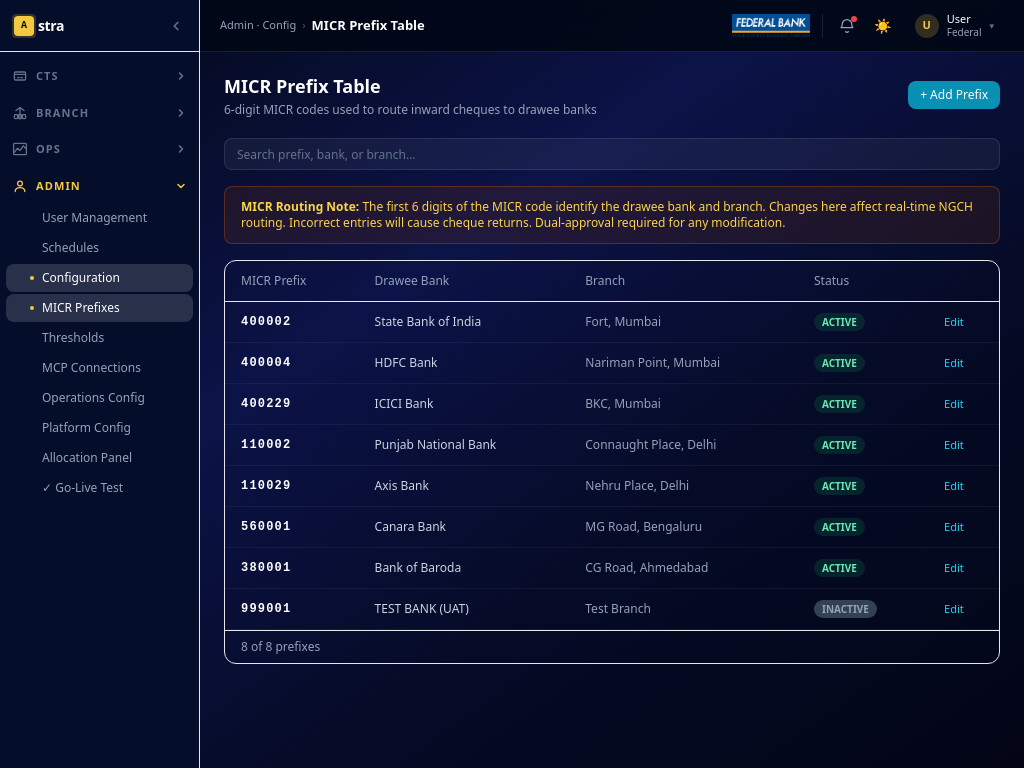
Test: CTSMICRPrefixes › edit modal Cancel closes it
The image size is (1024, 768).
Click the button "Edit" in the row of "400002". click: (954, 322)
box: x1=944 y1=314 x2=964 y2=330
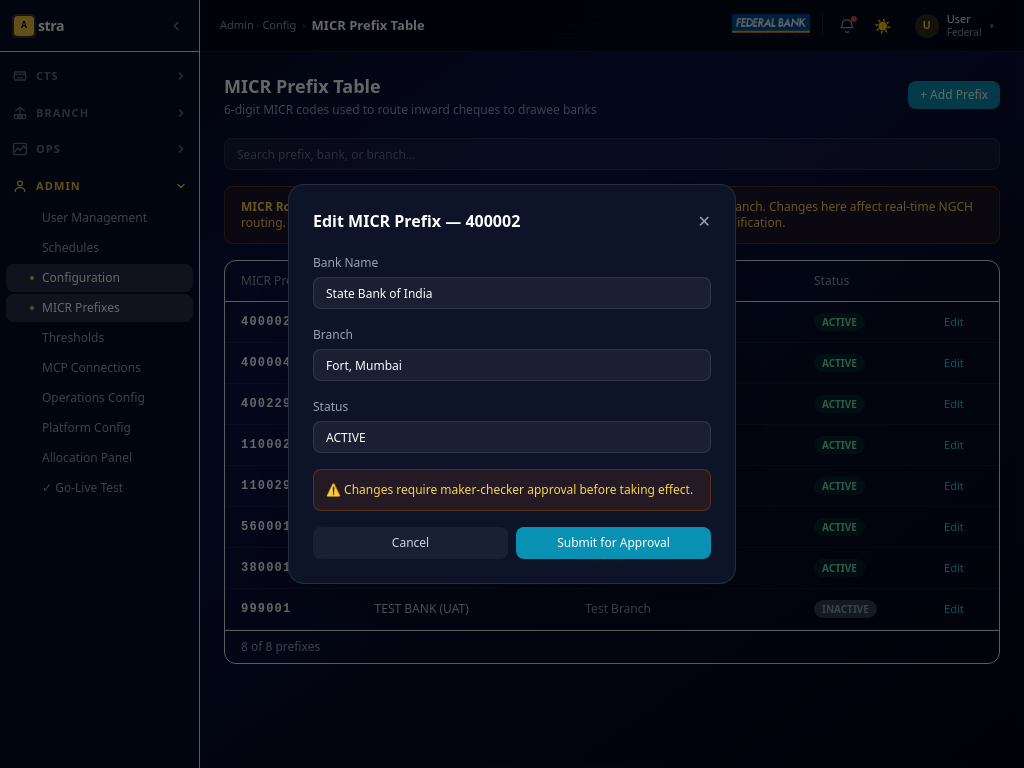
Click the button "Cancel". click: (410, 543)
box: x1=313 y1=527 x2=508 y2=559
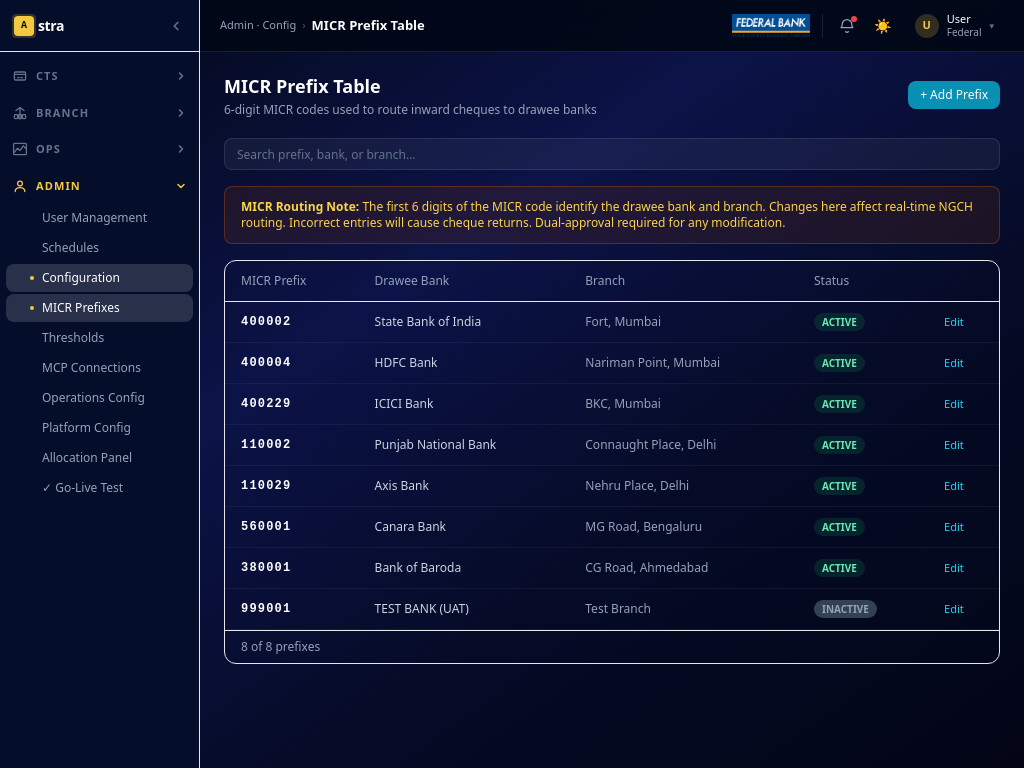
Check: the button "Submit for Approval" is gone
